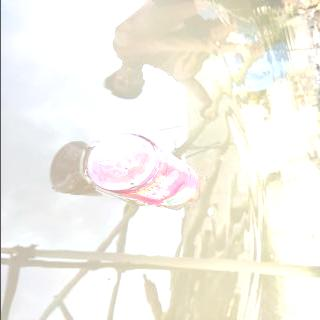bottle: (82, 129, 206, 208)
